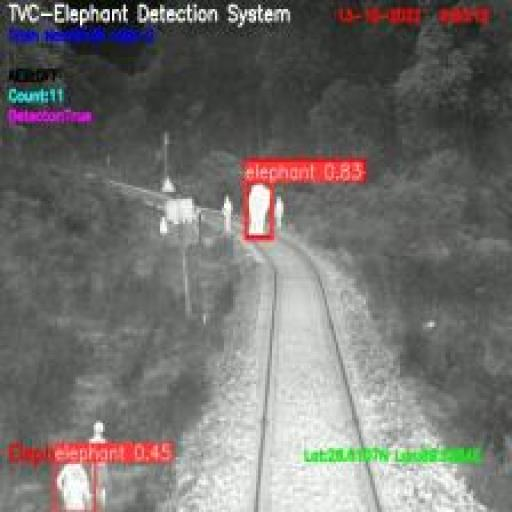Elephant: (245, 181, 272, 240)
